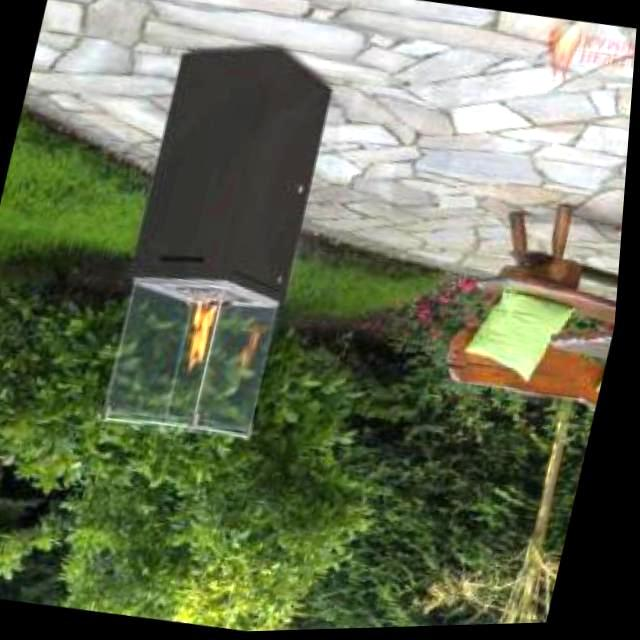fire: (173, 278, 239, 382)
